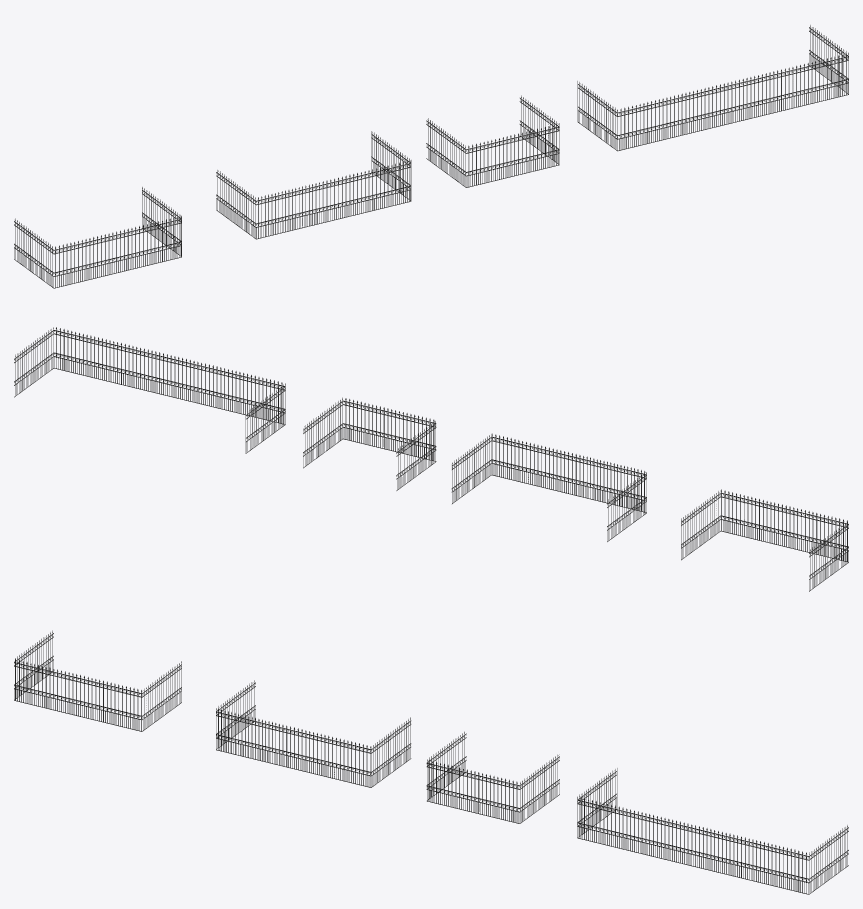
Rendered from downing_fence.glb.
3 renders of one model, top to bottom at view 1: azimuth 30°, elevation 25°; view 2: azimuth 150°, elevation 25°; view 3: azimuth 330°, elevation 25°, orthographic.
Parts seen in each view (by area): view 1: Plane.006; view 2: Plane.006; view 3: Plane.006.
Part boxes in pixels (box(x1,y1,x2,y2)): Plane.006: box(14, 25, 848, 288); Plane.006: box(14, 327, 848, 591); Plane.006: box(14, 630, 848, 894).
Bounding box in the file's own units: 31.15 × 1.92 × 2.72.
1 material, 1 textured.
